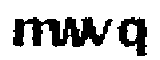m: (10, 15, 58, 52)
q: (114, 14, 149, 60)
v: (87, 13, 111, 48)
w: (56, 13, 87, 50)
